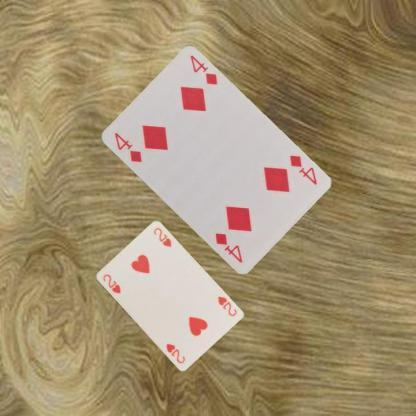2h: (214, 294, 237, 318), (100, 272, 122, 294)
4d: (111, 130, 143, 165), (286, 152, 318, 187)
